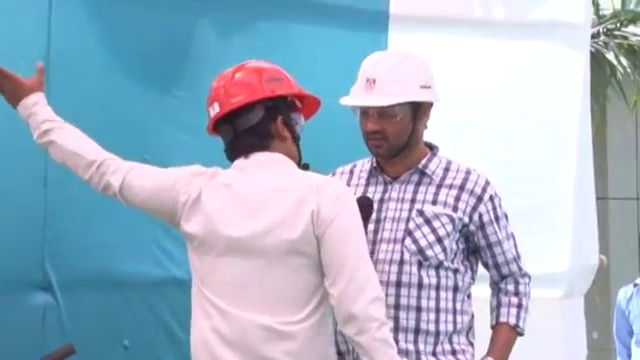helmet: (204, 57, 322, 133), (338, 47, 441, 113)
helmet_on: (337, 47, 442, 179), (203, 58, 323, 169)
person: (2, 59, 402, 360), (325, 48, 533, 360)
